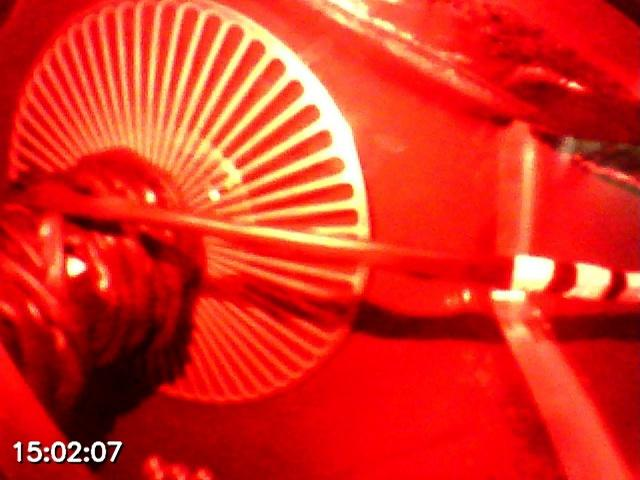white-dots: (511, 254, 640, 307)
